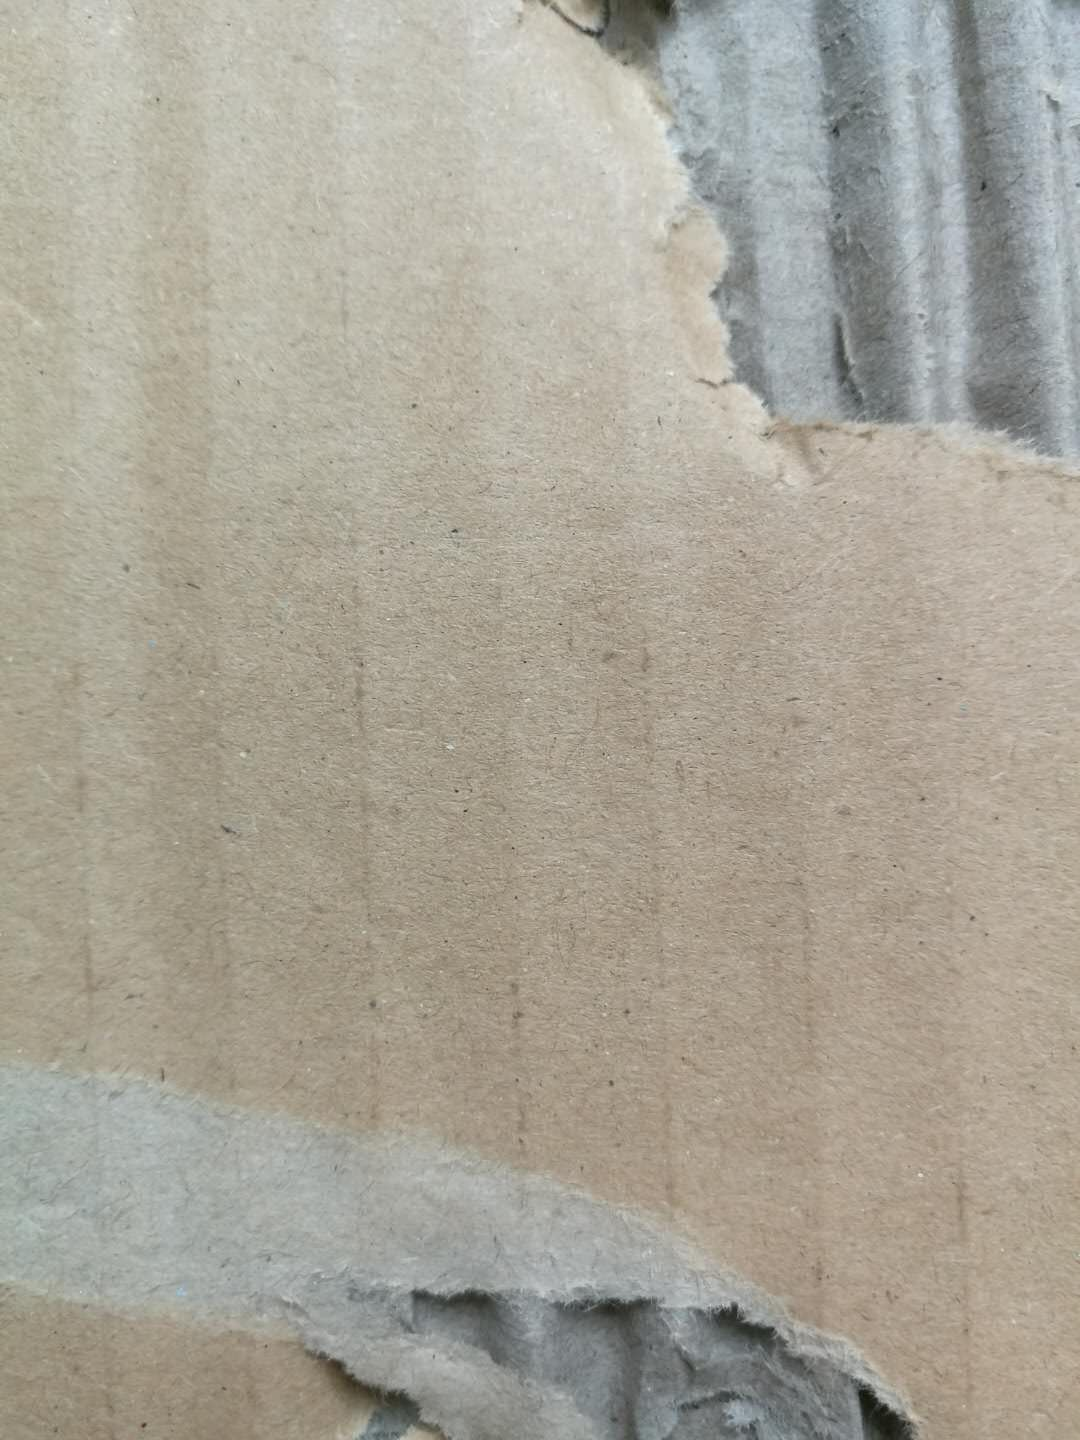defect: (2, 1015, 981, 1440), (475, 1, 1080, 528)
